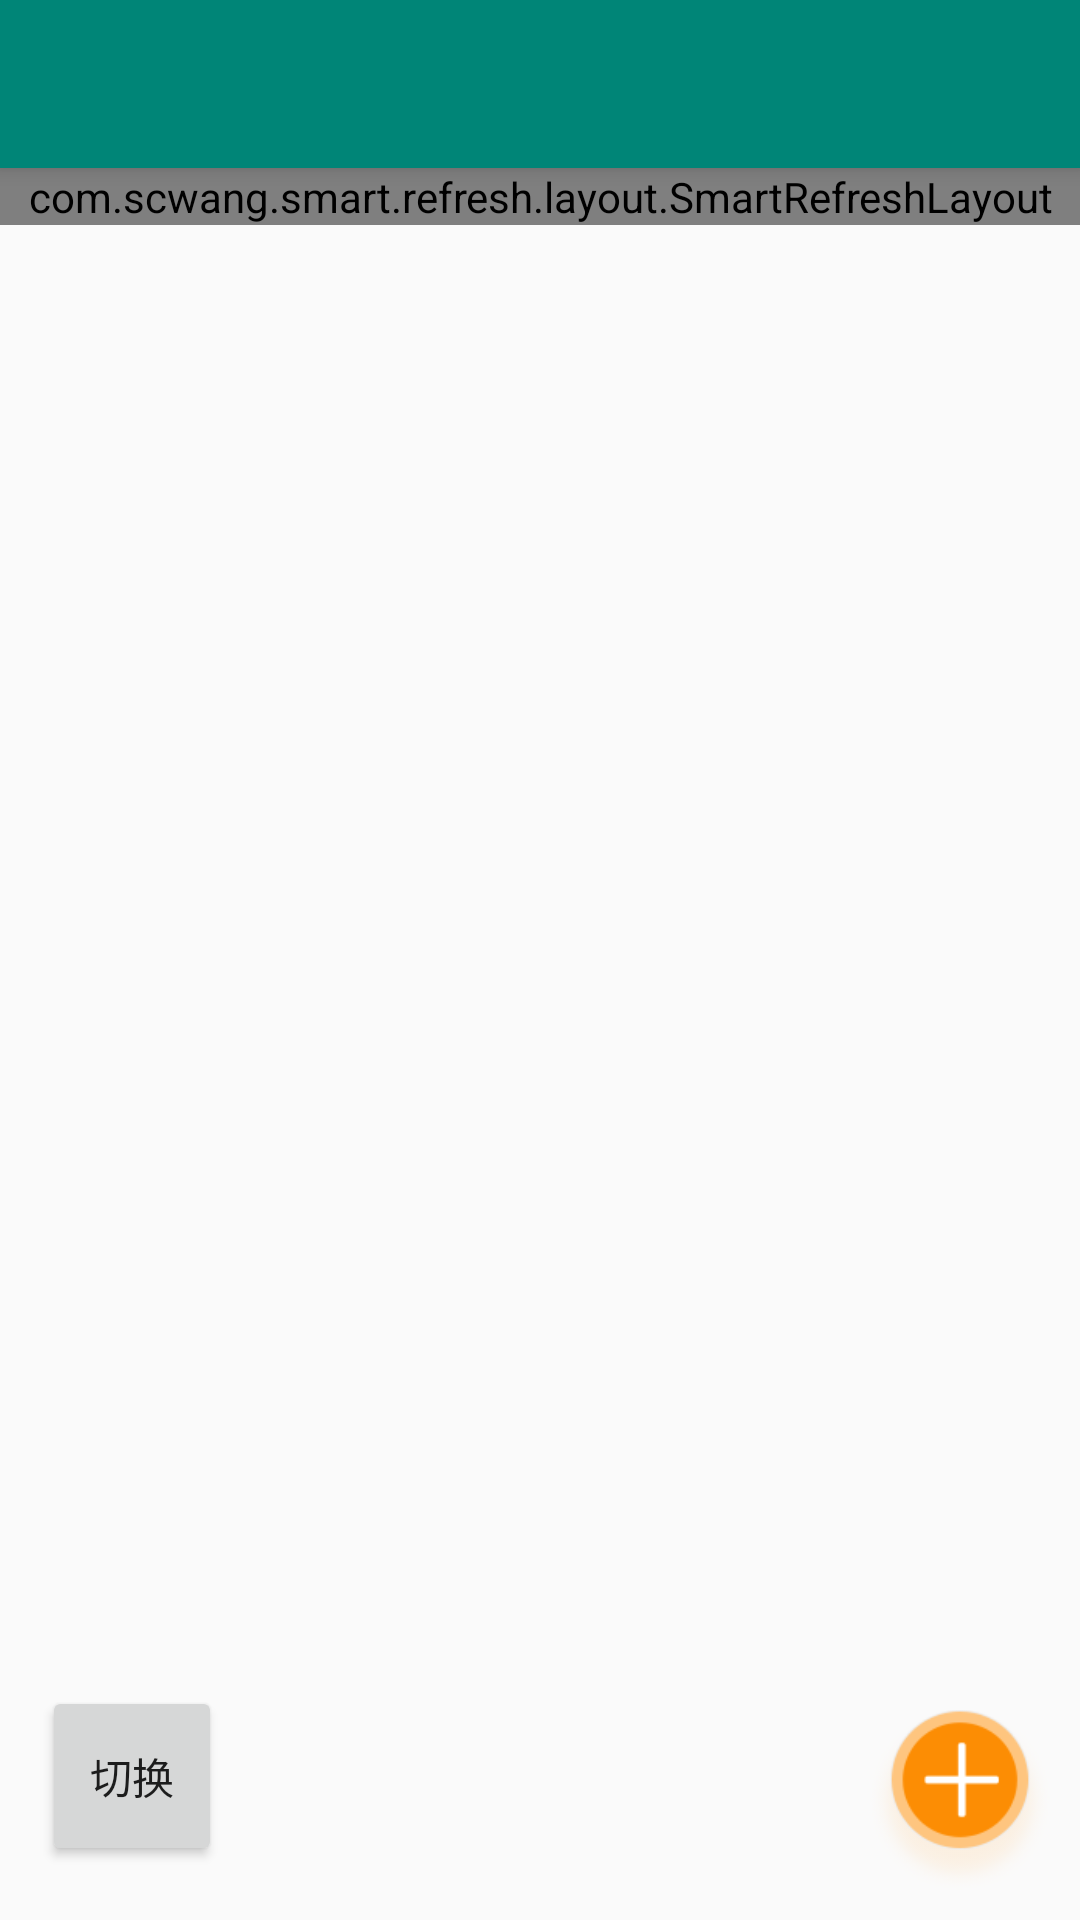

Where to tap for icons on this 1080w x 1920h app screen, as (x=x, y=y):
add list: (x=960, y=1783)
